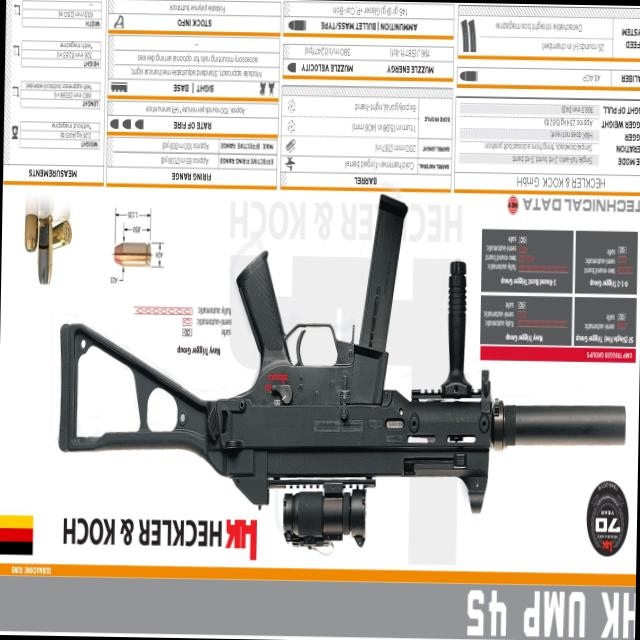Gun: (25, 186, 640, 515)
